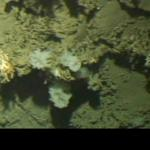alive: (4, 15, 140, 124)
